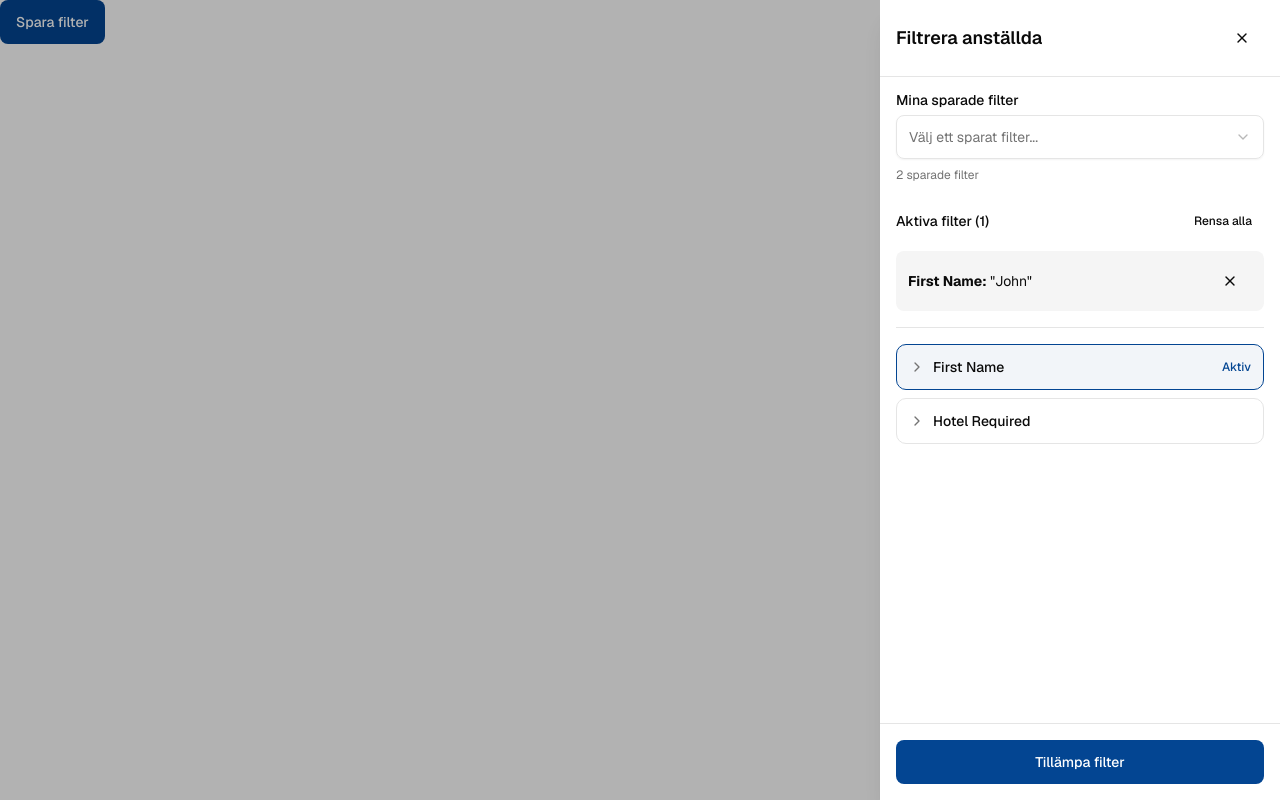
Test: Story 20.6: Saved Filters Integration › shows current indicator when active filters match saved filter
The width and height of the screenshot is (1280, 800).
Click the dropdown labelled "Välj ett sparat filter..." at (973, 137), box x1=896 y1=115 x2=1264 y2=159
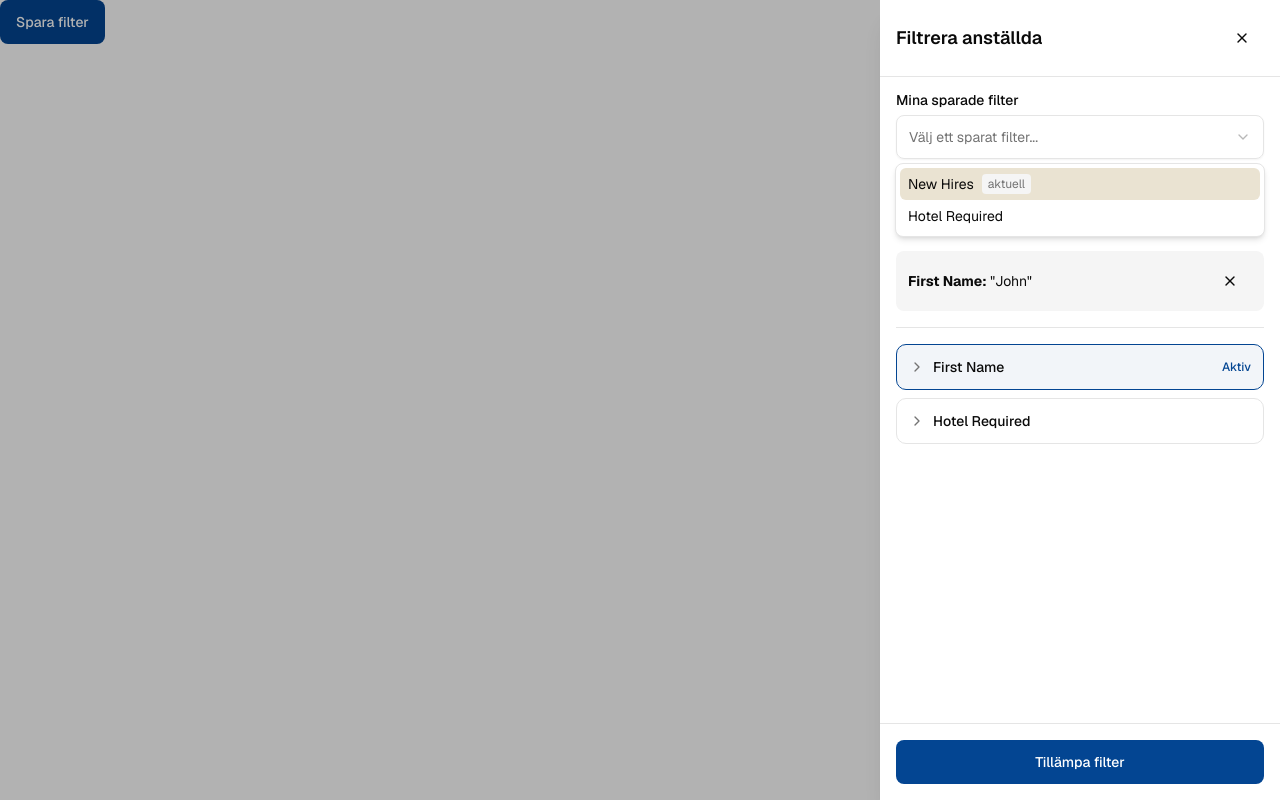
Result: the text "aktuell" is shown at x1=982 y1=174 x2=1031 y2=194
